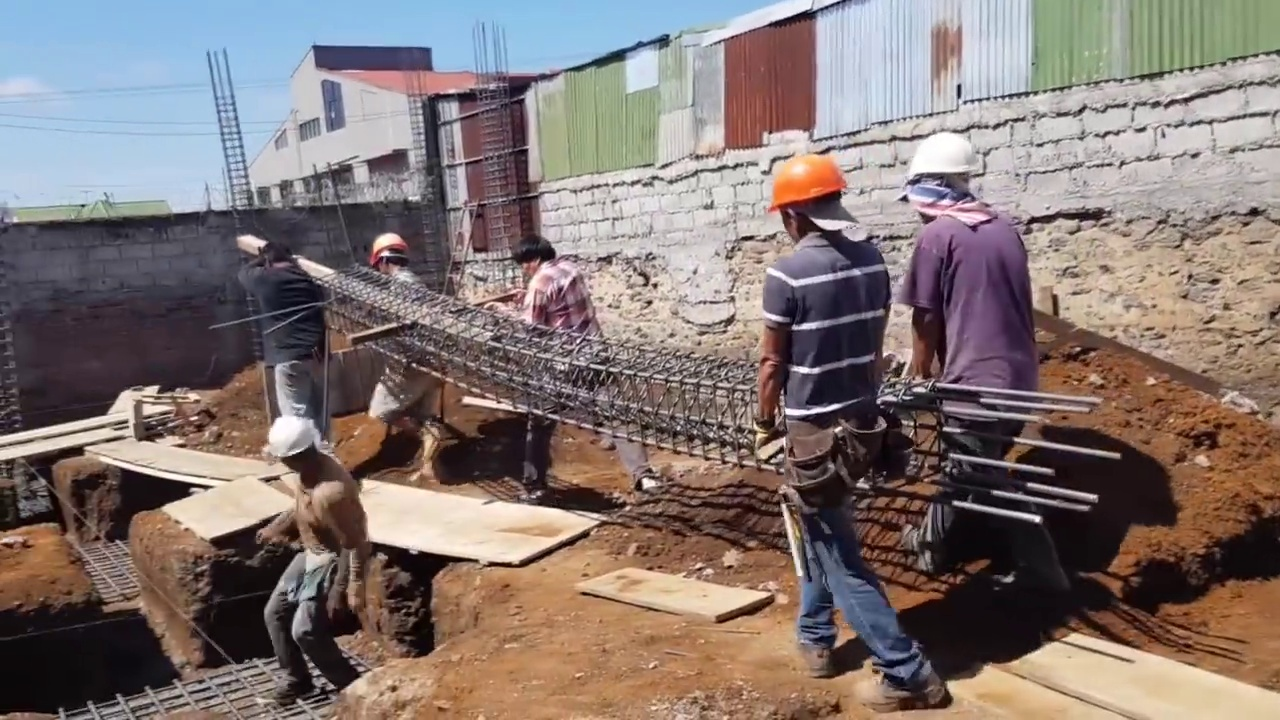helmet: (900, 127, 991, 187), (766, 154, 848, 212), (267, 415, 315, 460), (369, 234, 410, 266)
helmet-off: (511, 233, 557, 280), (261, 240, 293, 270)
helmet-on: (765, 152, 856, 245), (904, 129, 988, 227), (266, 415, 327, 480), (368, 234, 411, 276)
person: (900, 124, 1078, 630), (755, 158, 901, 717), (509, 226, 660, 502), (264, 416, 368, 709), (368, 230, 448, 477), (237, 237, 325, 413)
